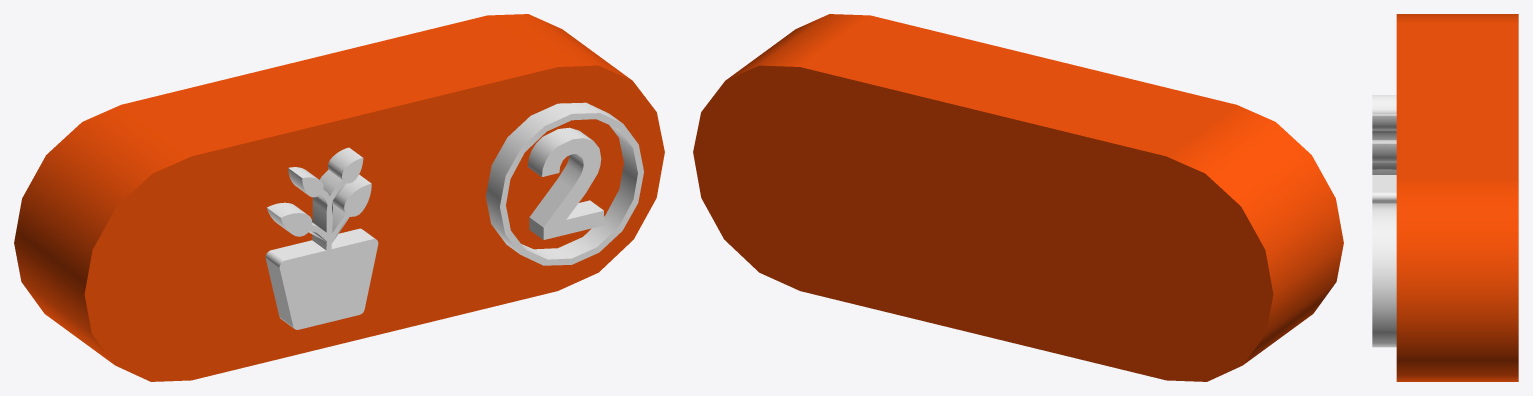
Rendered from Plant_2.fbx.
3 views of the same model, side by side, from view 1: azimuth 30°, elevation 25°; view 2: azimuth 150°, elevation 25°; view 3: azimuth 270°, elevation 25° (orthographic). The views are drawn at different scales.
Parts seen in each view (by area): view 1: Orange, Object_3, Object_5, Object_1, Object_10, Object_12, Object_9, Object_13, Object_11, Object_6, Object_15; view 2: Orange; view 3: Orange, Object_3, Object_5, Object_10, Object_9, Object_11, Object_6, Object_8, Object_13.
Boxes of the visible parts, x1=… form: Orange: x1=14, y1=14, x2=664, y2=381; Object_3: x1=485, y1=102, x2=643, y2=265; Object_5: x1=265, y1=228, x2=378, y2=329; Object_1: x1=527, y1=127, x2=603, y2=239; Object_10: x1=333, y1=174, x2=371, y2=216; Object_12: x1=267, y1=202, x2=312, y2=236; Object_9: x1=328, y1=147, x2=363, y2=183; Object_13: x1=312, y1=170, x2=349, y2=252; Object_11: x1=288, y1=167, x2=323, y2=197; Object_6: x1=312, y1=183, x2=346, y2=248; Object_15: x1=299, y1=204, x2=354, y2=243; Orange: x1=693, y1=14, x2=1343, y2=381; Orange: x1=1396, y1=14, x2=1518, y2=381; Object_3: x1=1372, y1=203, x2=1396, y2=347; Object_5: x1=1372, y1=175, x2=1396, y2=203; Object_10: x1=1372, y1=140, x2=1396, y2=162; Object_9: x1=1372, y1=113, x2=1396, y2=130; Object_11: x1=1372, y1=95, x2=1396, y2=112; Object_6: x1=1372, y1=130, x2=1396, y2=139; Object_8: x1=1372, y1=162, x2=1396, y2=169; Object_13: x1=1372, y1=169, x2=1396, y2=174.
Size of the model in its own units: 4.75 by 1.2 by 1.75.
